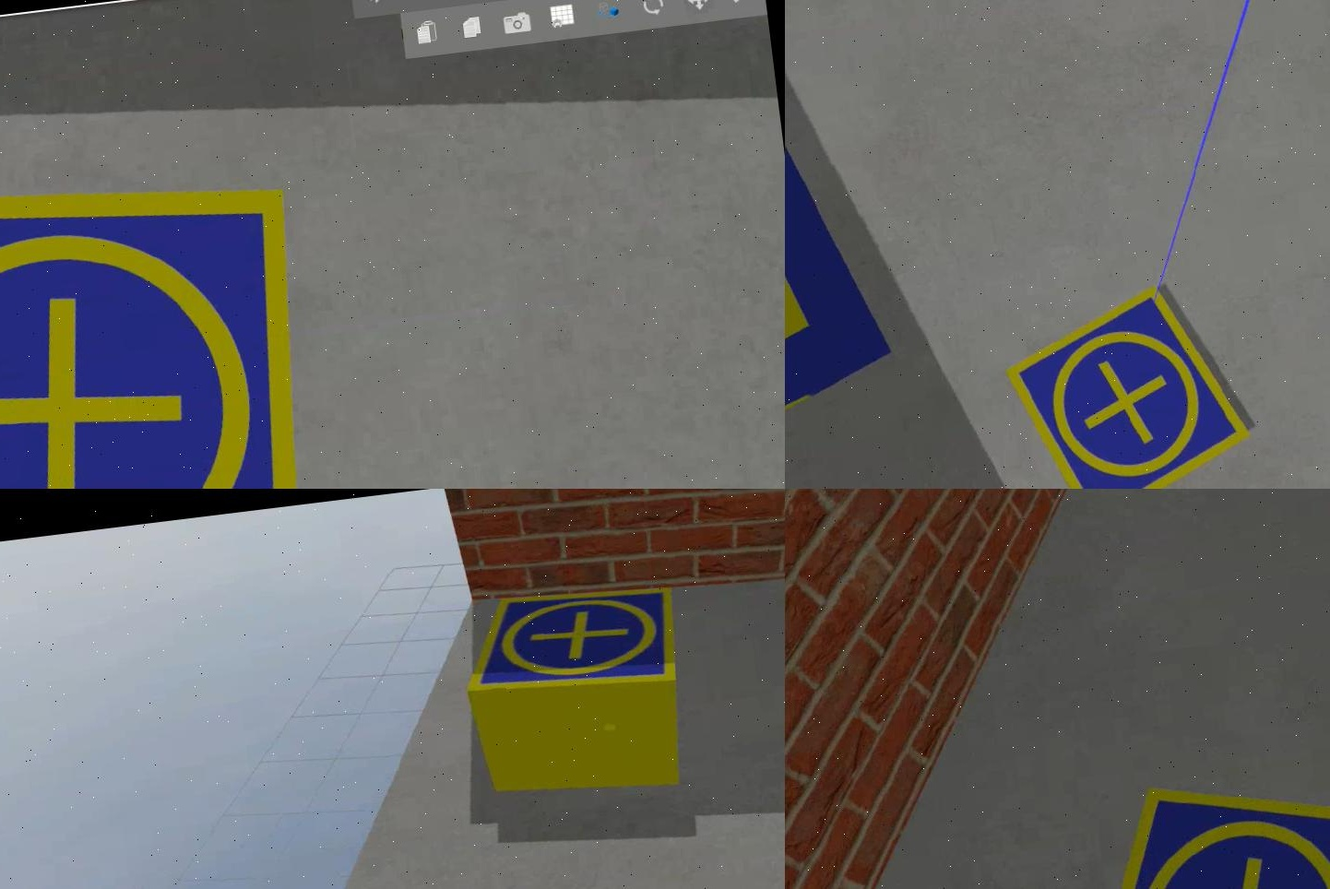large_base: (783, 1, 912, 490)
small_base: (0, 147, 336, 490), (996, 279, 1263, 490), (1050, 756, 1328, 889), (455, 579, 682, 713)
